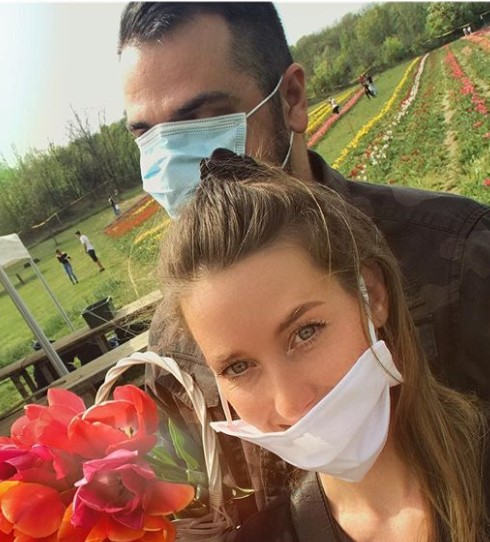face_with_mask: (178, 190, 398, 482), (111, 2, 308, 224)
